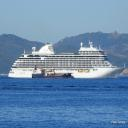cruises: (8, 40, 128, 81)
